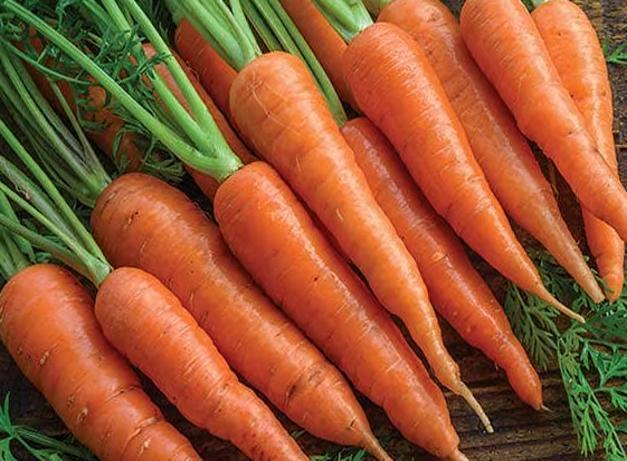carrot: (0, 155, 375, 461), (227, 51, 487, 456), (347, 1, 627, 336)
